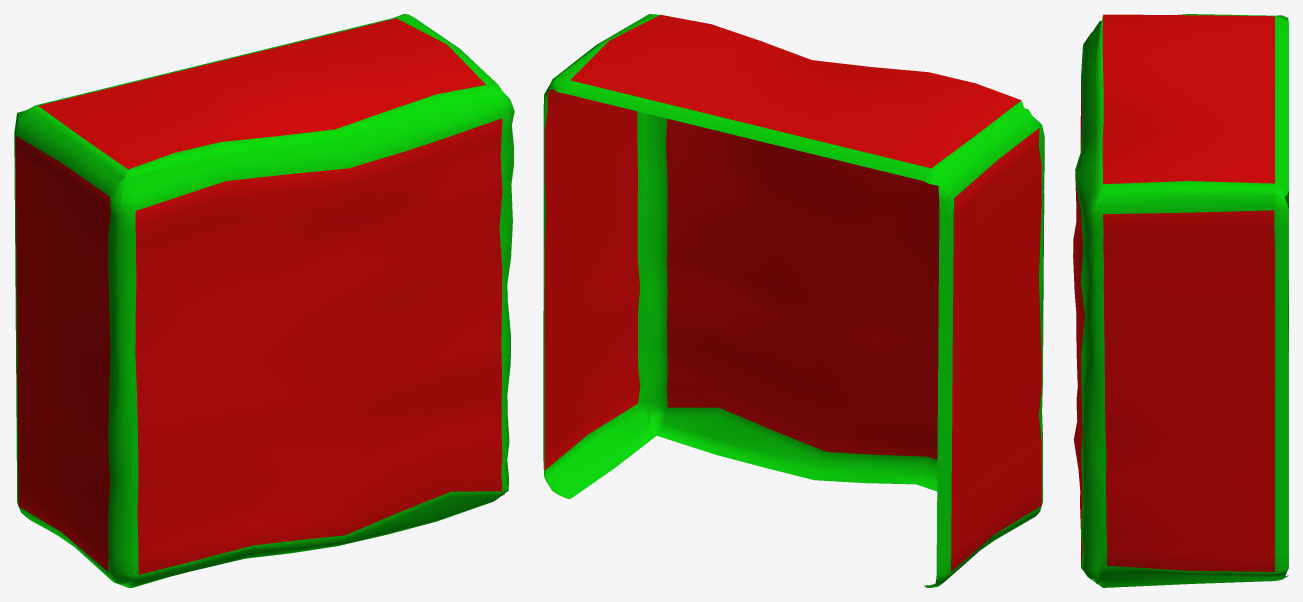
Rendered from Cubes_export_Sculpt.fbx.
The picture shows the model from 3 angles, left to right: view 1: azimuth 30°, elevation 25°; view 2: azimuth 150°, elevation 25°; view 3: azimuth 270°, elevation 25°; orthographic projection. The views are drawn at different scales.
Visible parts, largest first — view 1: Cube_Red; view 2: Cube_Red; view 3: Cube_Red.
Part boxes in pixels (left/top/right/bottom): Cube_Red: left=14, top=14, right=514, bottom=587; Cube_Red: left=543, top=14, right=1044, bottom=587; Cube_Red: left=1073, top=14, right=1288, bottom=587.
Bounding box in the file's own units: 1.01 × 1.02 × 0.4822.
